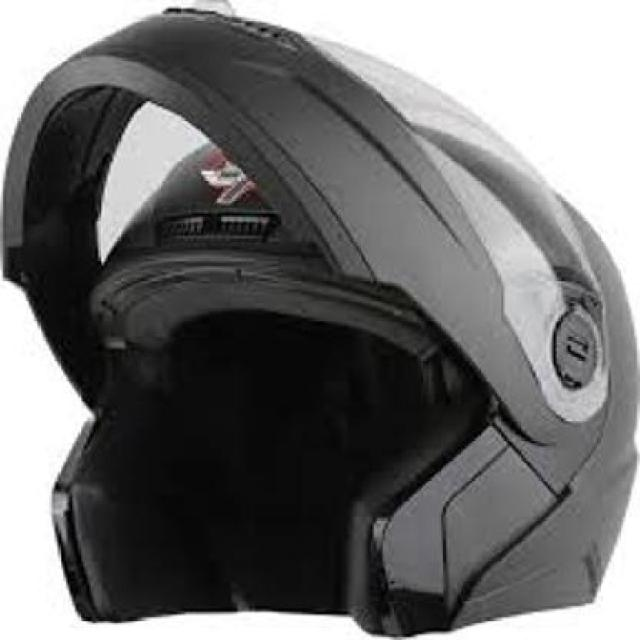not trash: (1, 9, 633, 633)
